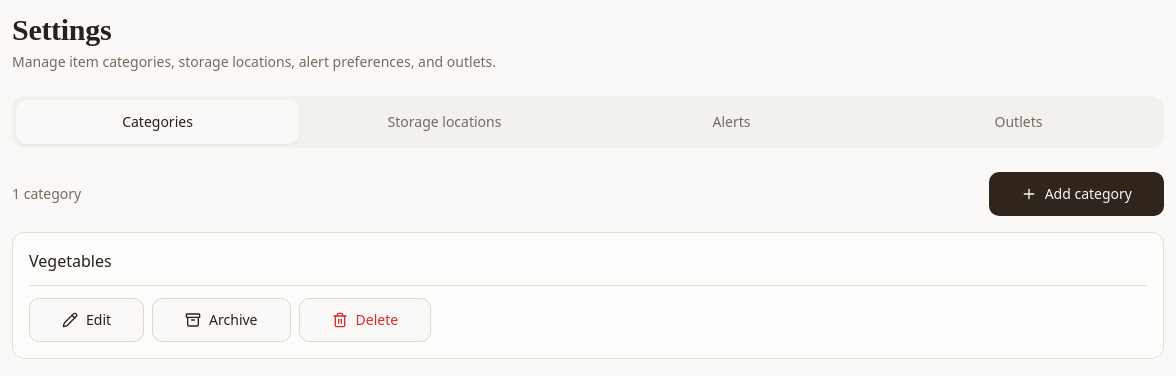
SettingsPage › switches to the storage locations tab
Click the tab "Storage locations" at (444, 122), box [303, 100, 586, 144]
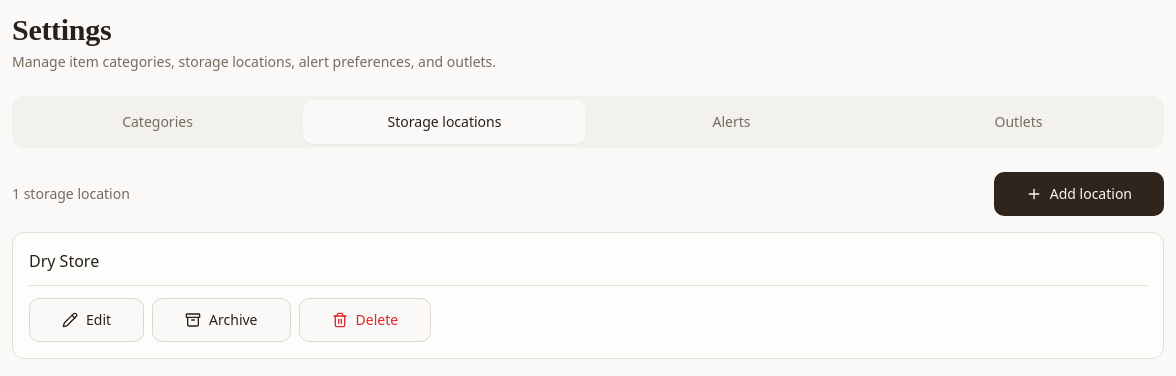
Check: the text "Dry Store" is shown, box [29, 250, 99, 272]
Check: the text "Vegetables" is gone
